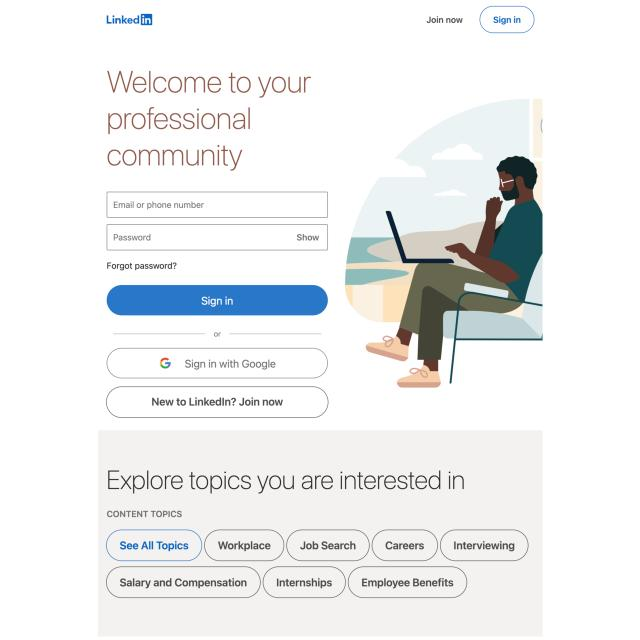input: (106, 223, 328, 252), (105, 191, 329, 218)
logo: (102, 9, 157, 30)
